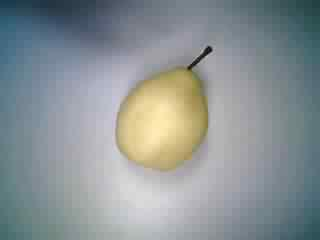pear: (111, 42, 222, 176)
